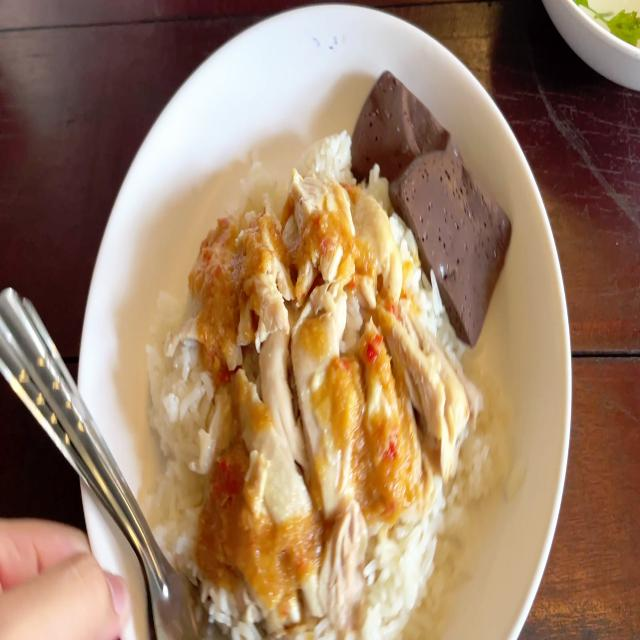boiled_chicken: (191, 179, 428, 573)
boiled_chicken_blood_jelly: (397, 133, 505, 332), (344, 63, 451, 223)
chicken_rice: (150, 47, 513, 640)
